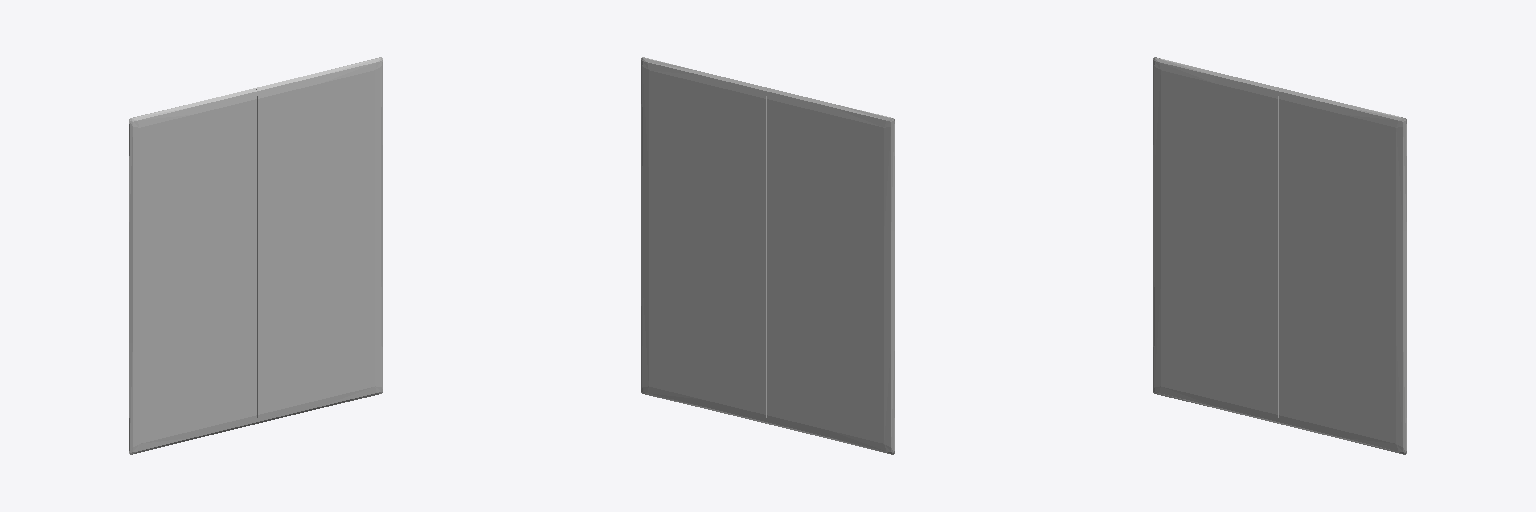
Rendered from back_door.obj.
3 renders of one model, left to right at view 1: azimuth 30°, elevation 25°; view 2: azimuth 150°, elevation 25°; view 3: azimuth 330°, elevation 25°, orthographic.
Visible parts, largest first — view 1: Box155_Untitled.258; view 2: Box155_Untitled.258; view 3: Box155_Untitled.258.
Part boxes in pixels (bbox=[...]): Box155_Untitled.258: bbox=[129, 57, 382, 454]; Box155_Untitled.258: bbox=[641, 57, 894, 454]; Box155_Untitled.258: bbox=[1153, 57, 1406, 454].
Size of the model in its own units: 1.38 by 1.75 by 0.0281.